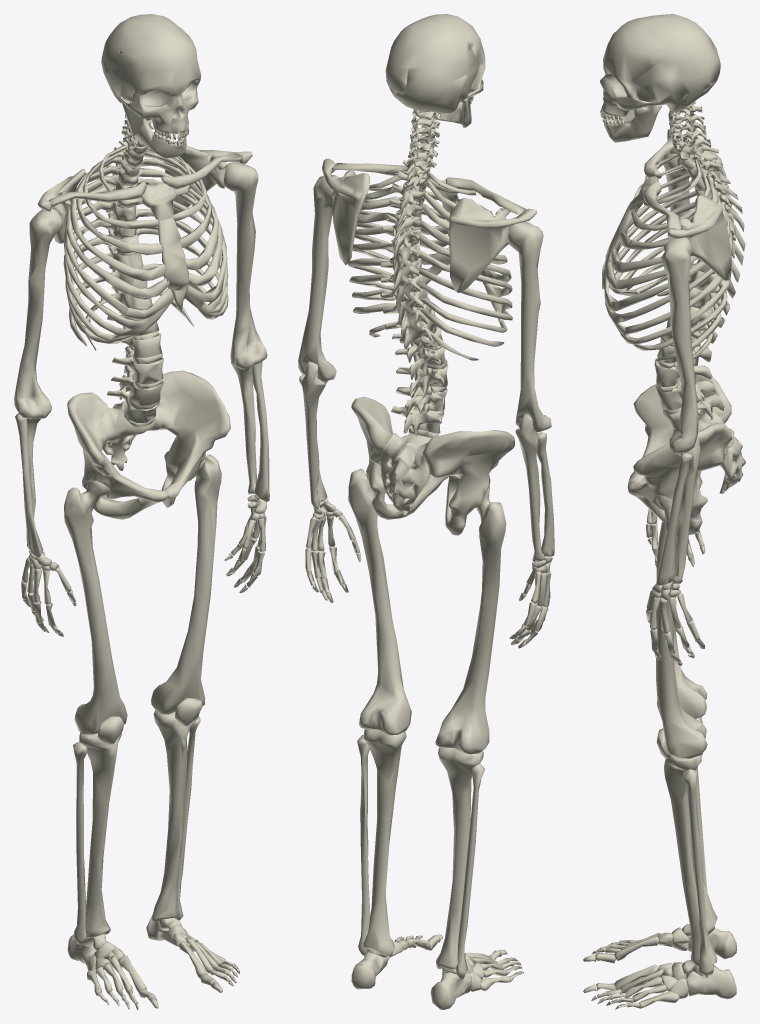
The model's file is esqueleto.glb.
The picture shows the model from 3 angles, left to right: view 1: azimuth 30°, elevation 25°; view 2: azimuth 150°, elevation 25°; view 3: azimuth 270°, elevation 25°; orthographic projection.
Parts seen in each view (by area): view 1: Object_3; view 2: Object_3; view 3: Object_3.
Part boxes in pixels (box(x1,y1,x2,y2)): Object_3: box(14, 14, 269, 1009); Object_3: box(298, 14, 554, 1009); Object_3: box(583, 14, 745, 1009).
Bounding box in the file's own units: 1.87 × 6.91 × 1.06.
